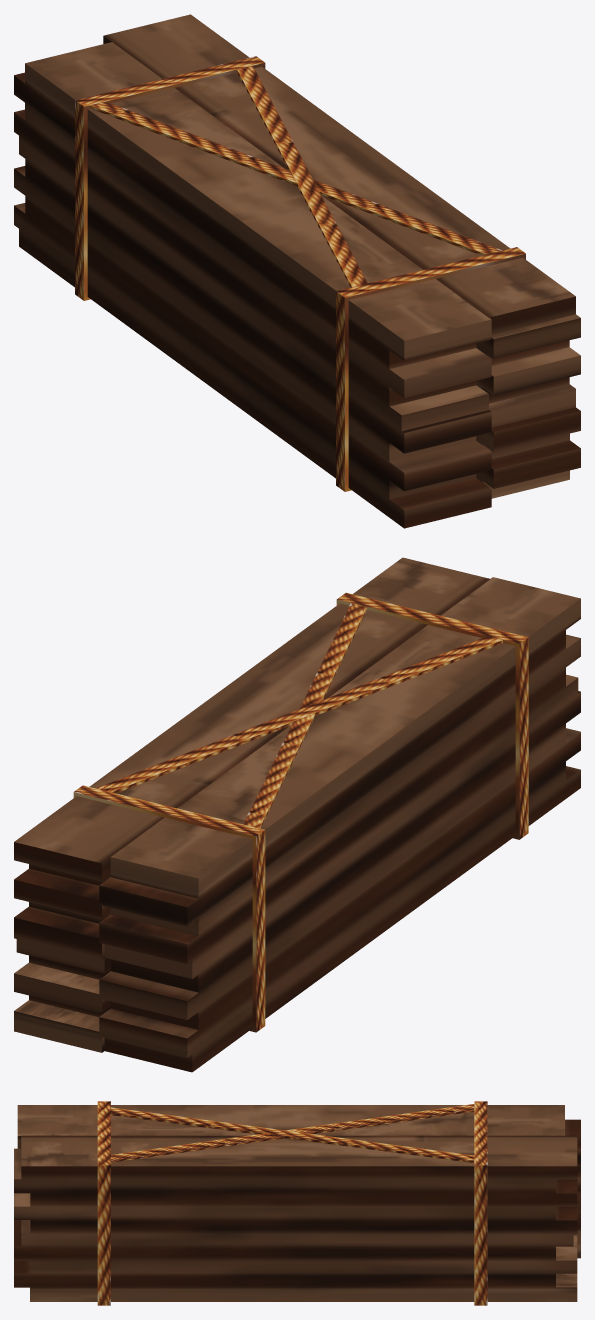
The model's file is DJG_BoundPlanks20.fbx.
3 renders of one model, top to bottom at view 1: azimuth 30°, elevation 25°; view 2: azimuth 150°, elevation 25°; view 3: azimuth 270°, elevation 25°, orthographic. The views are drawn at different scales.
Parts seen in each view (by area): view 1: B_Planksx20; view 2: B_Planksx20; view 3: B_Planksx20.
Part boxes in pixels (left/top/right/bottom): B_Planksx20: left=14, top=14, right=580, bottom=528; B_Planksx20: left=14, top=557, right=580, bottom=1072; B_Planksx20: left=14, top=1101, right=580, bottom=1305.
Size of the model in its own units: 0.1632 by 0.1673 by 0.613.
